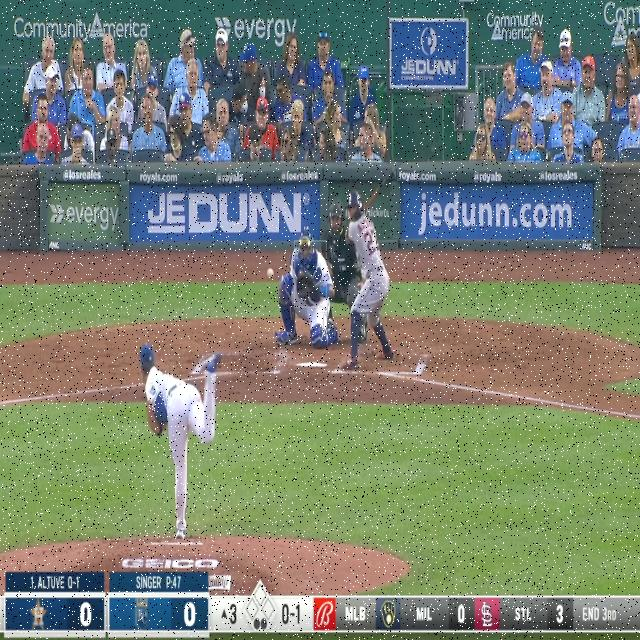baseball: (267, 268, 274, 279)
